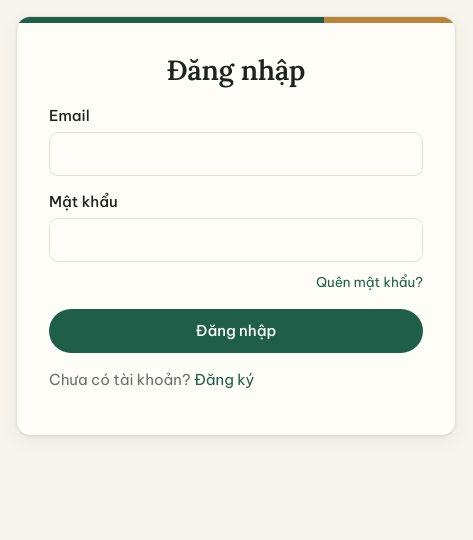
Test case: LoginPage › hiện thông báo lỗi của backend và lỗi từng trường
Click the button "Đăng nhập". click: {"x": 236, "y": 331}
box: [49, 309, 423, 353]
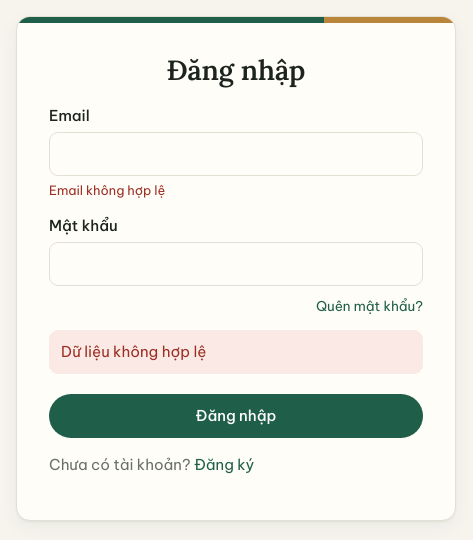
Expected: the button "Đăng nhập" is enabled, [49, 394, 423, 438]
Result: the text "Dữ liệu không hợp lệ" is shown at [49, 330, 423, 374]
Result: the text "Email không hợp lệ" is shown at [49, 182, 165, 198]
